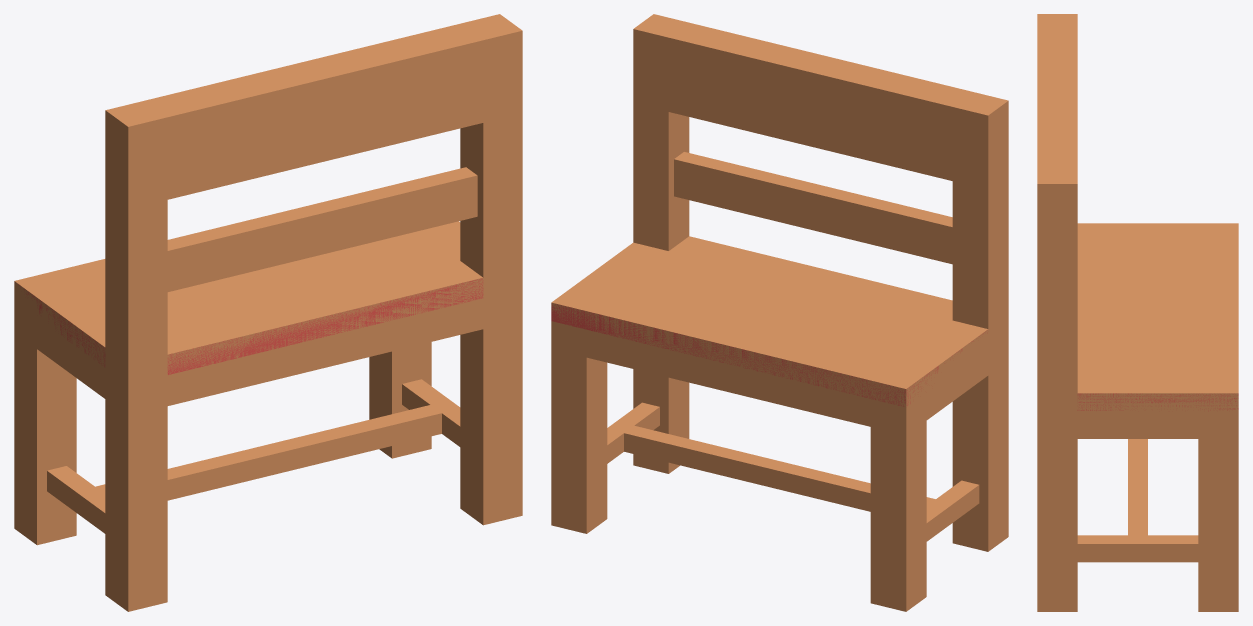
File: bench.glb
The picture shows the model from 3 angles, left to right: view 1: azimuth 30°, elevation 25°; view 2: azimuth 150°, elevation 25°; view 3: azimuth 270°, elevation 25°; orthographic projection. The views are drawn at different scales.
Parts seen in each view (by area): view 1: bench; view 2: bench; view 3: bench.
Boxes of the visible parts, <box> form: bench: <box>14,14,522,611</box>; bench: <box>551,14,1008,611</box>; bench: <box>1037,14,1238,611</box>.
Size of the model in its own units: 0.918 by 1.08 by 0.459.
